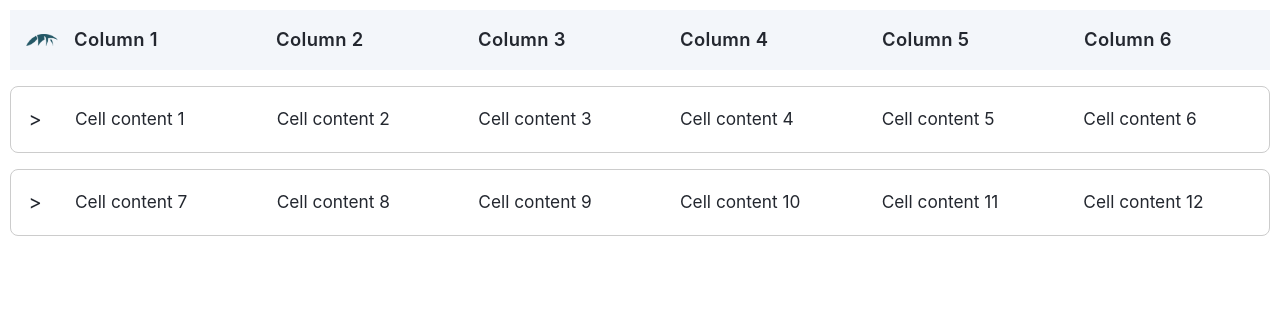
Expandable Table E2E Tests › should expand and collapse rows correctly
// Test first row expansion using data-cy
Click the button with test id "expand-button-0". click: (35, 119)
box: [28,104,41,134]
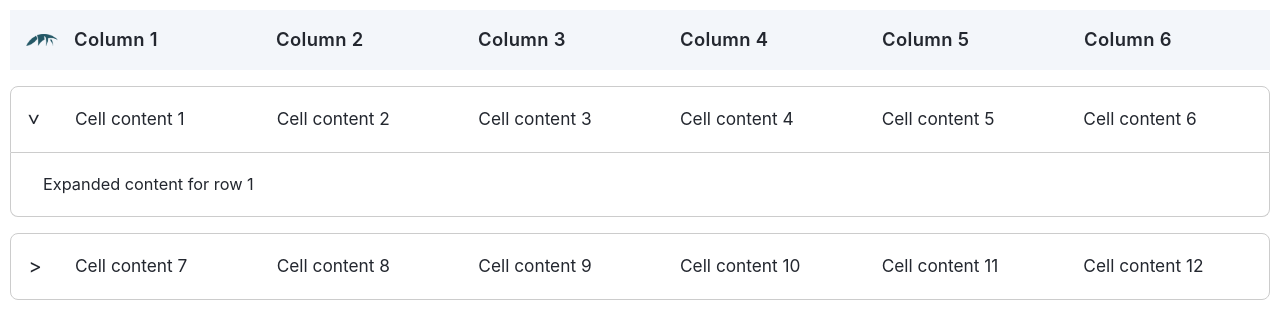
Expected: the row with test id "expanded-content-0" reads "Expanded content for row 1", [10,153,1270,217]
Expected: the button with test id "expand-button-0" is expanded
// Test collapsing the row
Click the button with test id "expand-button-0". click: (35, 120)
box: [23,113,47,126]
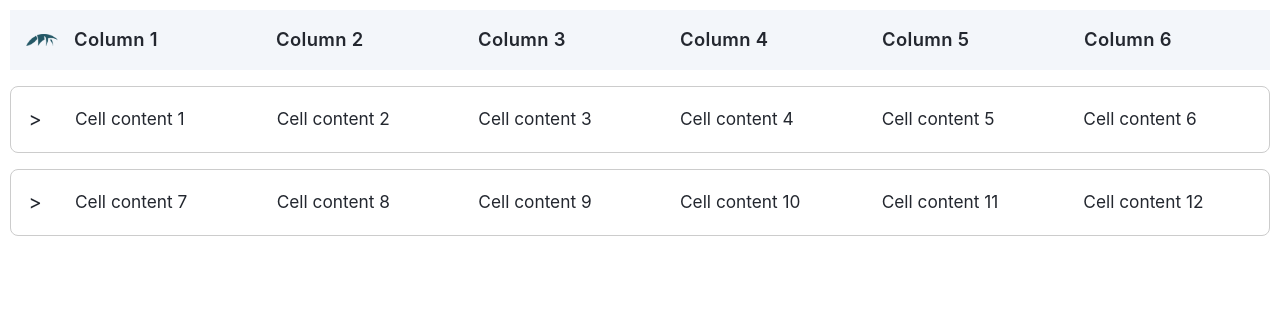
Expected: the row with test id "expanded-content-0" is gone
Expected: the button with test id "expand-button-0" is collapsed, [28,104,41,134]
